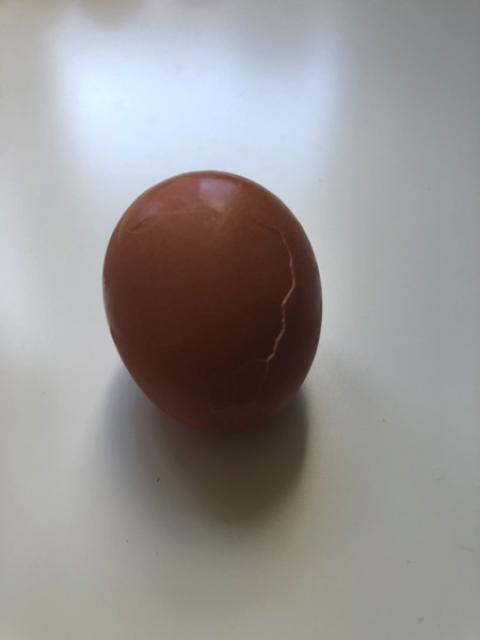Roto: (100, 167, 323, 433)
